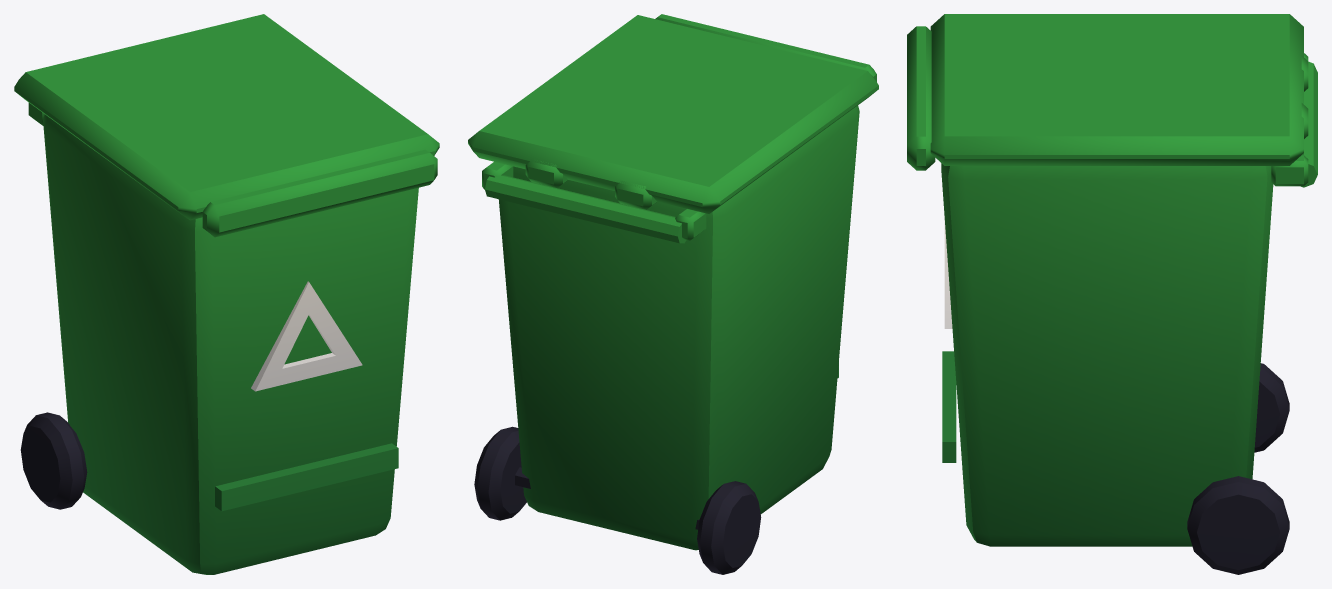
Rendered from hz_bin.glb.
3 views of the same model, side by side, from view 1: azimuth 30°, elevation 25°; view 2: azimuth 150°, elevation 25°; view 3: azimuth 270°, elevation 25° (orthographic). The views are drawn at different scales.
Parts seen in each view (by area): view 1: hz_bin; view 2: hz_bin; view 3: hz_bin.
Part boxes in pixels (<box>): hz_bin: <box>14,14,439,574</box>; hz_bin: <box>468,14,878,574</box>; hz_bin: <box>907,14,1317,574</box>.
Bounding box in the file's own units: 0.68 × 1.04 × 0.88.
